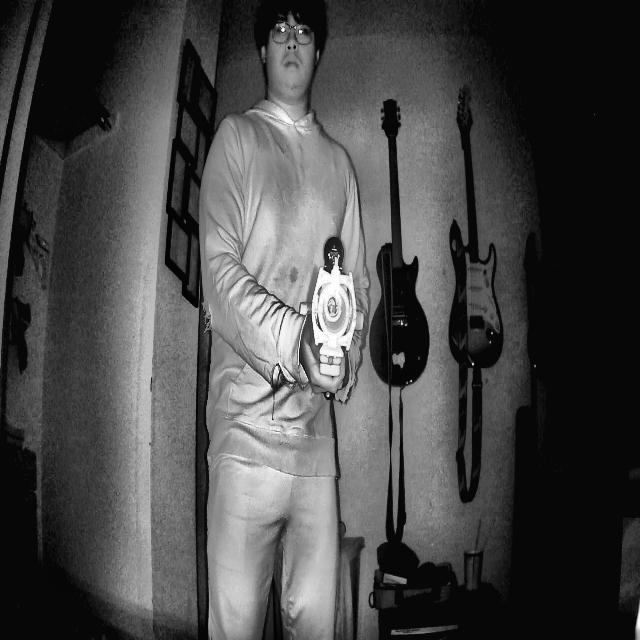Nerf_Blaster: (292, 225, 377, 421)
